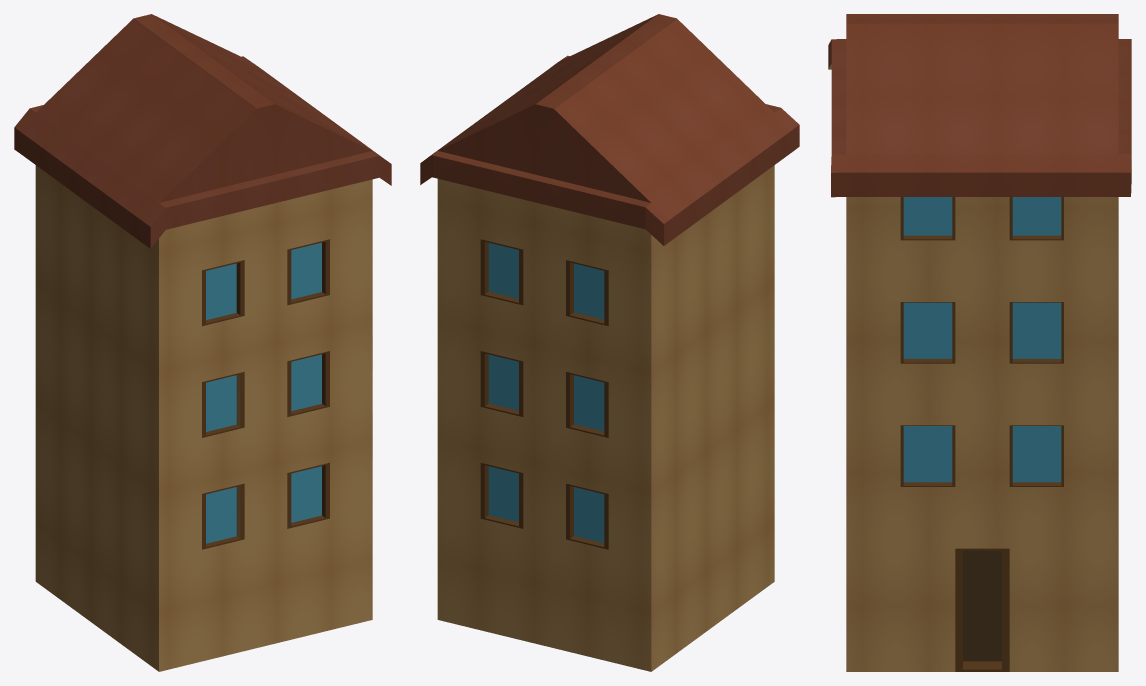
The model's file is Building.fbx.
3 renders of one model, left to right at view 1: azimuth 30°, elevation 25°; view 2: azimuth 150°, elevation 25°; view 3: azimuth 270°, elevation 25°, orthographic. The views are drawn at different scales.
Visible parts, largest first — view 1: Building1; view 2: Building1; view 3: Building1.
Part boxes in pixels (bbox=[...]): Building1: bbox=[14, 14, 391, 671]; Building1: bbox=[420, 14, 799, 671]; Building1: bbox=[828, 14, 1131, 671].
Size of the model in its own units: 682 by 1448 by 669.
